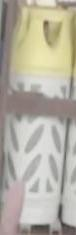cylinder: (0, 1, 76, 235)
